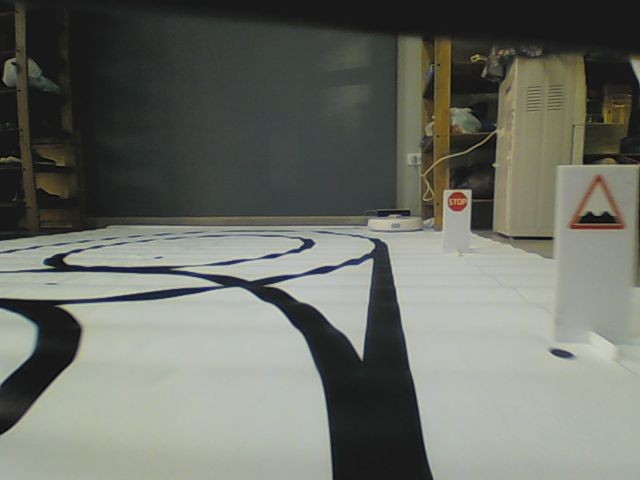Stop: (445, 191, 468, 212)
